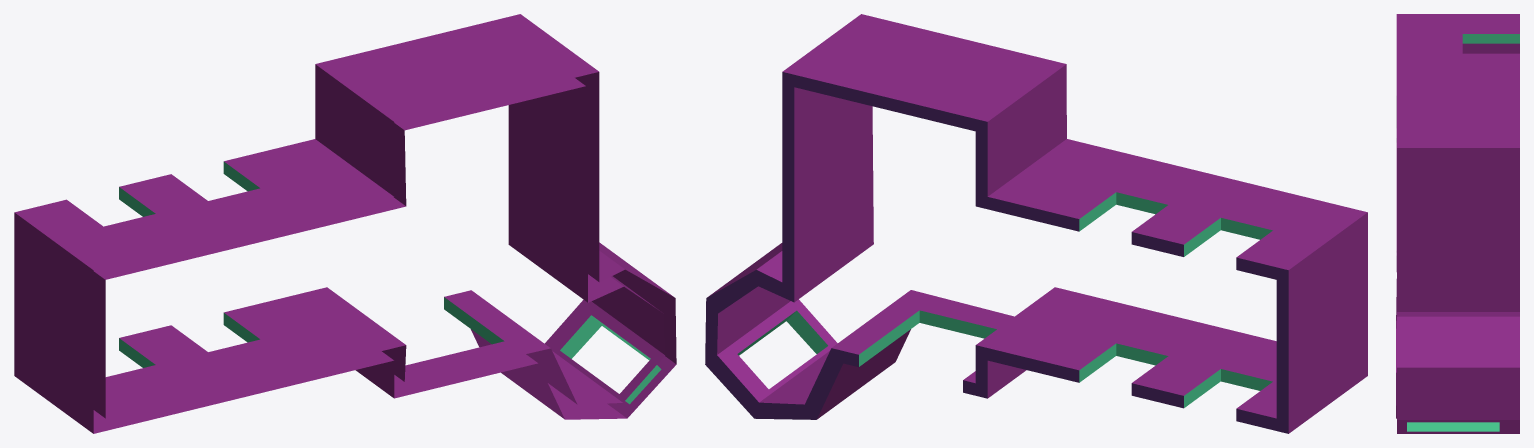
Rendered from Drukarnia trzebińskich Tier 1.fbx.
3 views of the same model, side by side, from view 1: azimuth 30°, elevation 25°; view 2: azimuth 150°, elevation 25°; view 3: azimuth 270°, elevation 25° (orthographic). The views are drawn at different scales.
Visible parts, largest first — view 1: duzy_dom_Cube_001; view 2: duzy_dom_Cube_001; view 3: duzy_dom_Cube_001.
Boxes of the visible parts, <box> form: duzy_dom_Cube_001: <box>14,14,676,433</box>; duzy_dom_Cube_001: <box>705,14,1367,433</box>; duzy_dom_Cube_001: <box>1396,14,1519,433</box>.
Bounding box in the file's own units: 3.75 × 2.17 × 0.8851.
